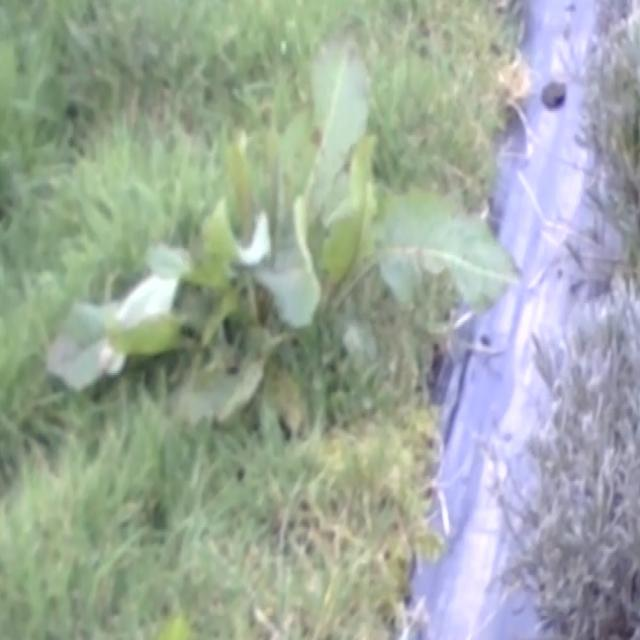organic waste: (52, 36, 548, 467)
